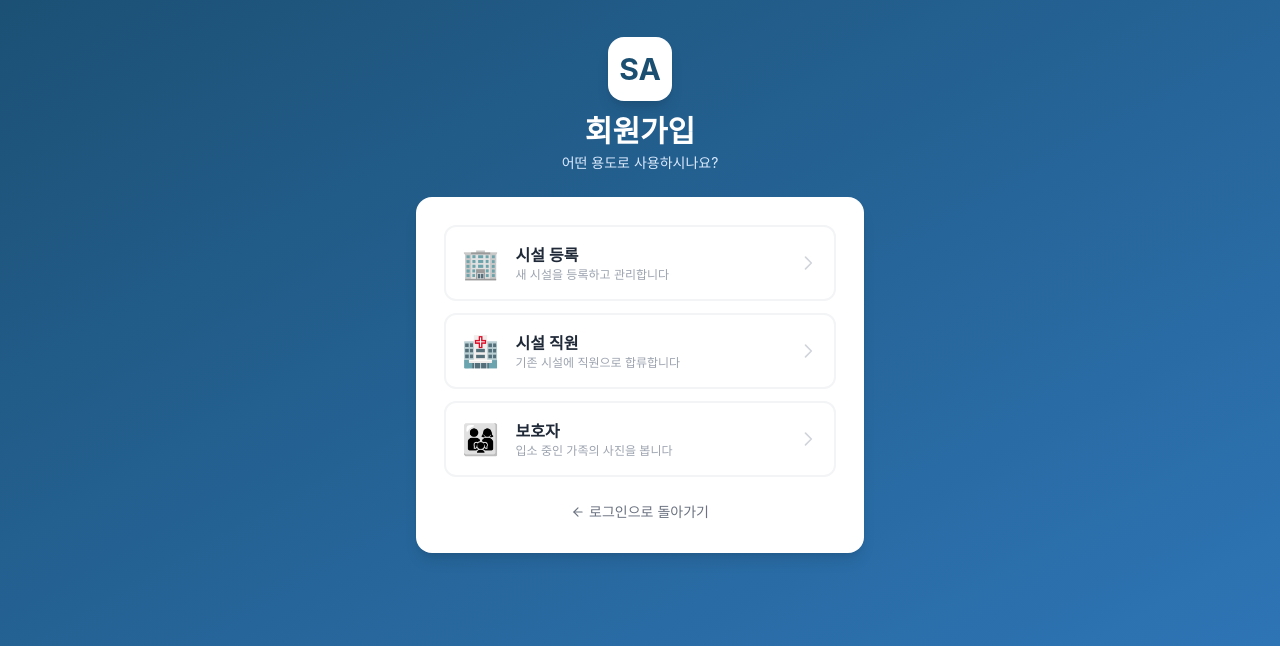
Test: RegisterPage › Step 2 - 시설 관리자(admin) 가입 › 시설 이름 없이 제출하면 에러가 표시된다
Click the text "시설 등록": (547, 255) [515,245,578,265]
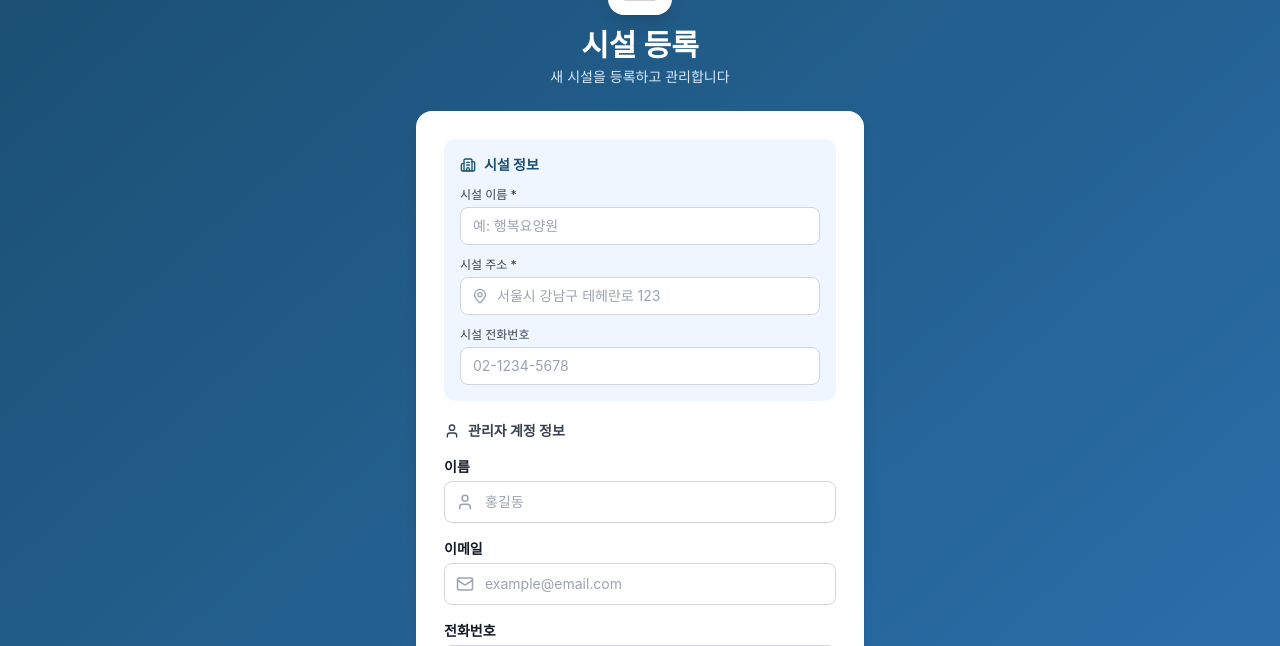
In the field with placeholder "홍길동": (640, 502) [444,481,836,523], type "관리자"
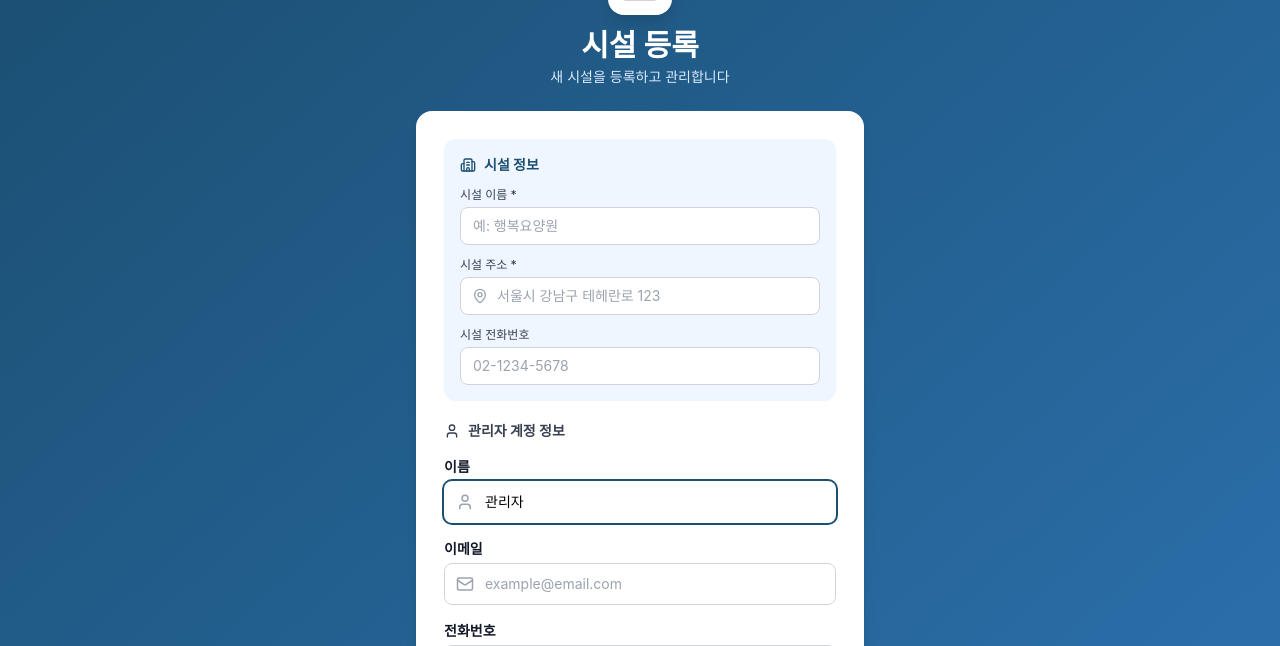
In the field with placeholder "example@email.com": (640, 584) [444,563,836,605], type "admin@test.com"
(page scrolled)
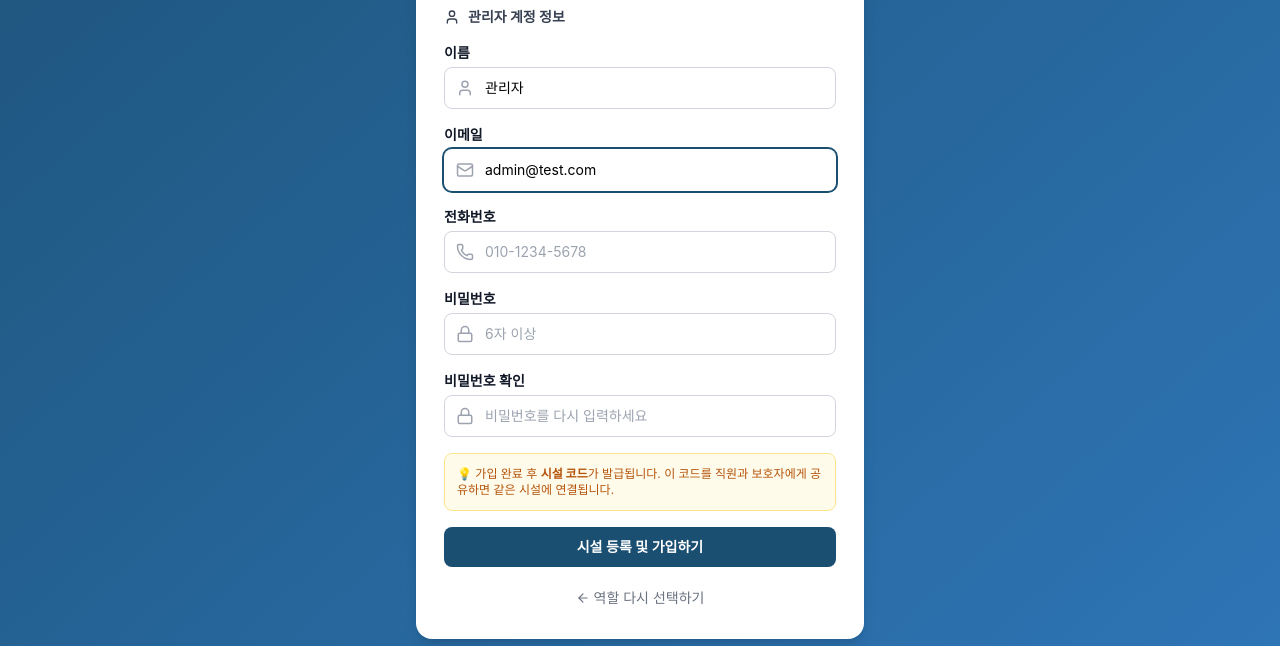
In the password field with placeholder "6자 이상": (640, 334) [444,313,836,355], type "password123"
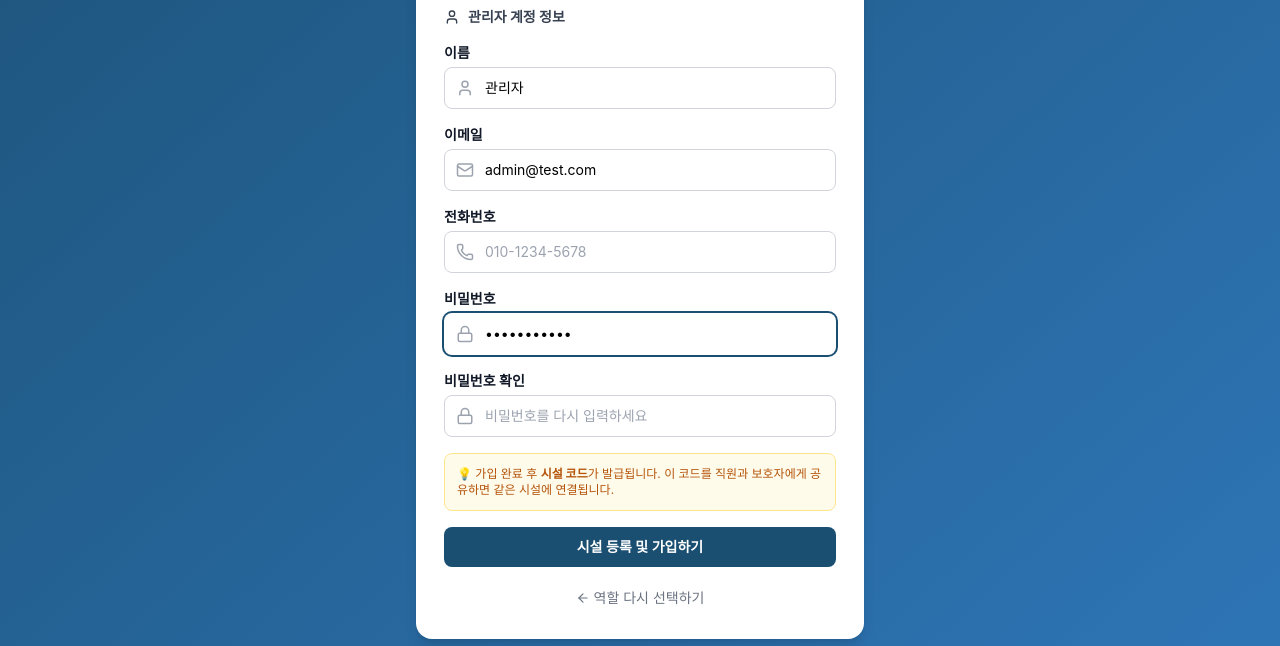
In the password field with placeholder "비밀번호를 다시 입력하세요": (640, 416) [444,395,836,437], type "password123"
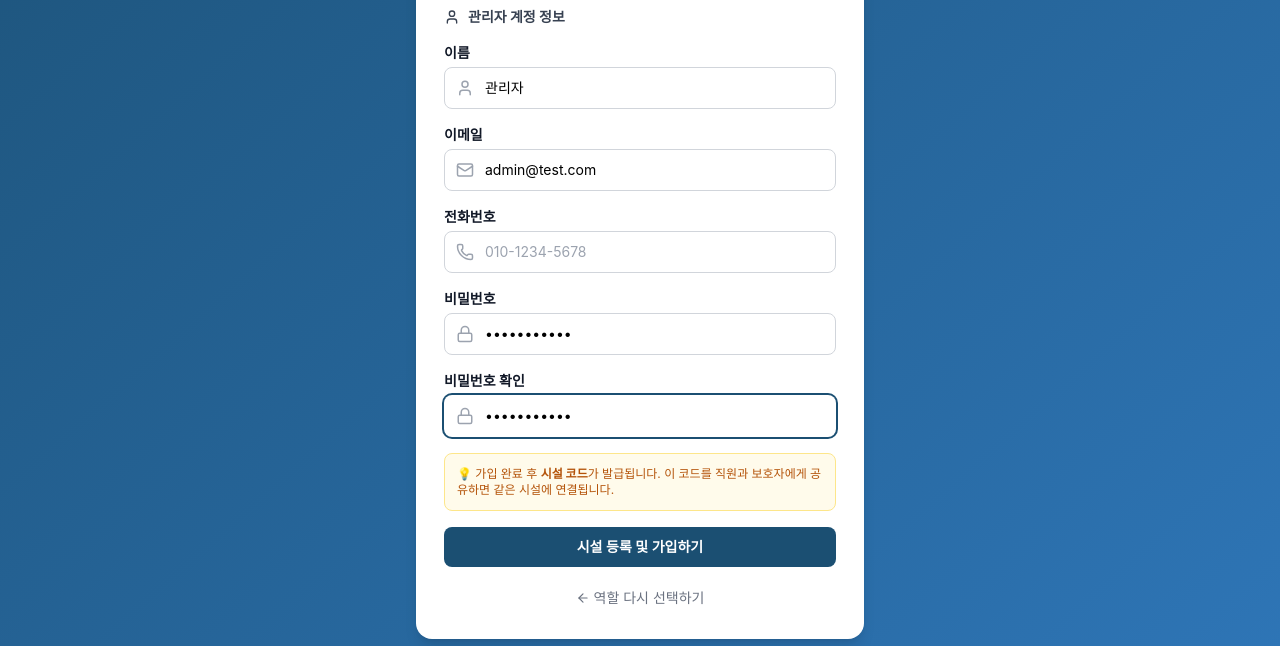
Click the button "시설 등록 및 가입하기": (640, 547) [444,527,836,567]
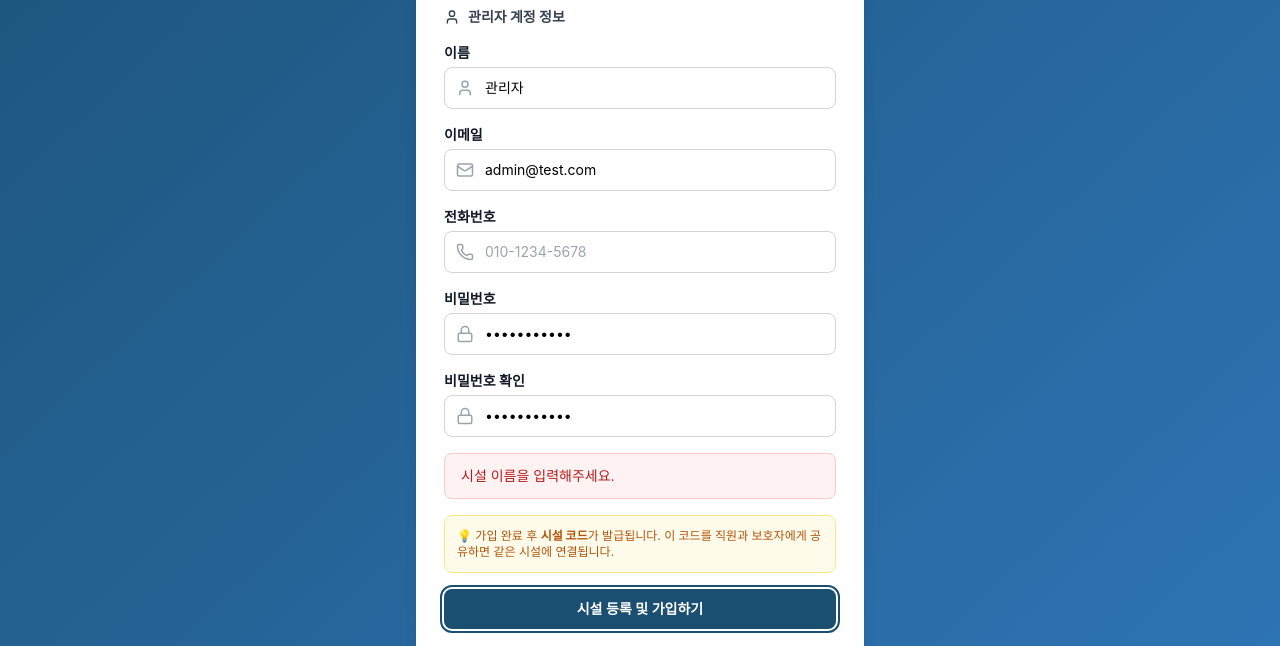
Expected: the text "시설 이름을 입력해주세요." is shown, [444,453,836,499]
